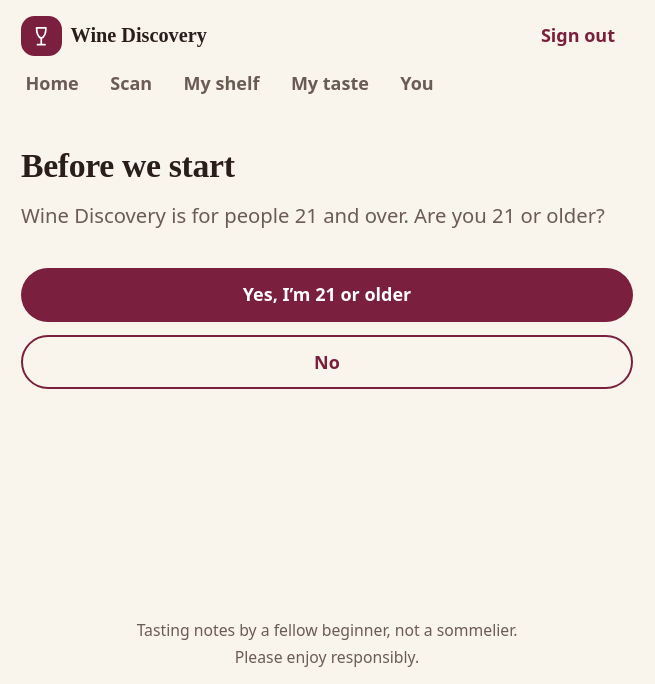
Test: 21+ gate › asks once, and saying no stores nothing and offers a way out
Expected: the heading "Before we start" is shown, [21,147,235,184]
Click the button "No".
click(327, 362)  # box [21,335,633,389]
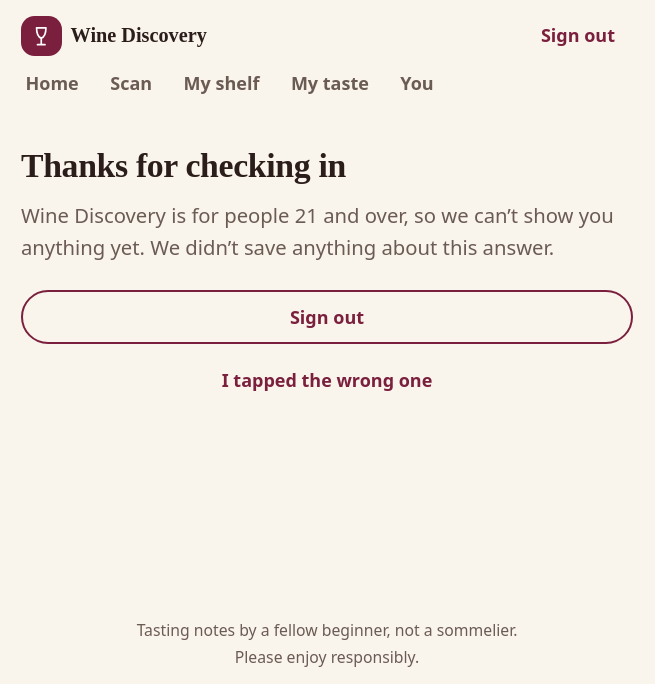
Expected: the heading "Thanks for checking in" is shown, [21,147,346,184]
Click the button "I tapped the wrong one".
click(327, 380)  # box [21,353,633,407]
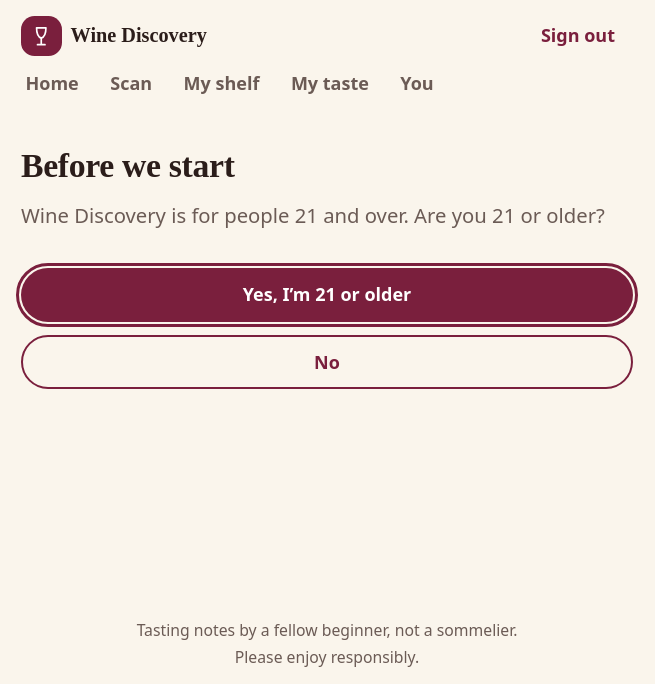
Expected: the heading "Before we start" is shown, [21,147,235,184]
